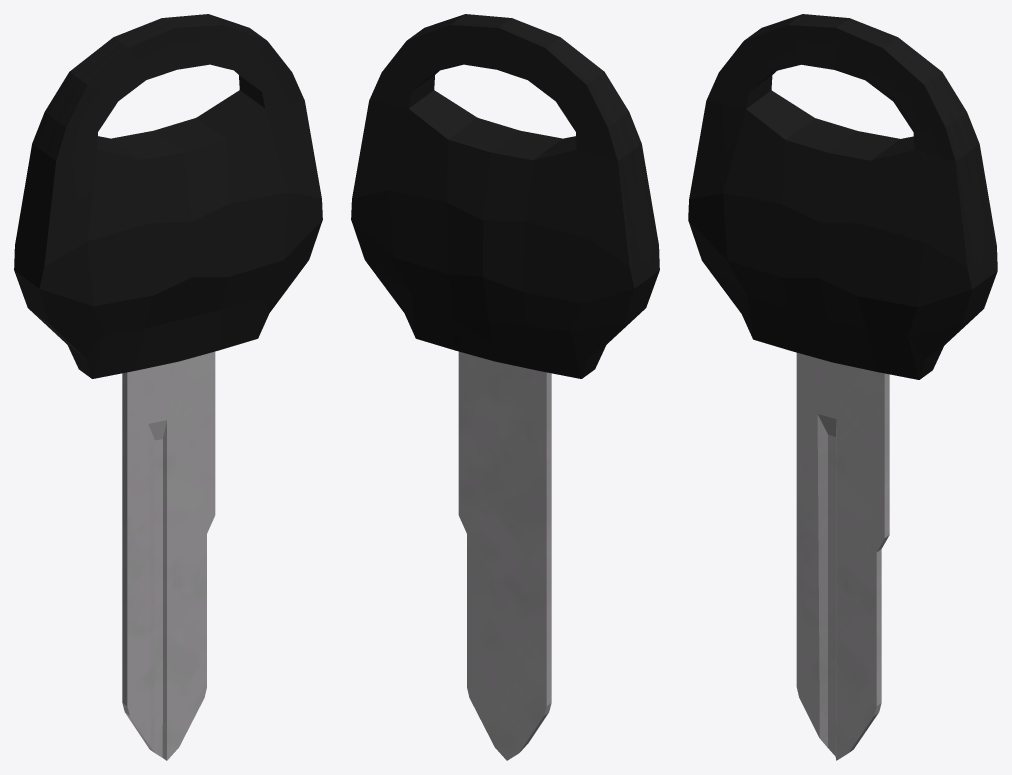
File: BikeKey.fbx
3 views of the same model, side by side, from view 1: azimuth 30°, elevation 25°; view 2: azimuth 150°, elevation 25°; view 3: azimuth 330°, elevation 25° (orthographic).
Parts seen in each view (by area): view 1: BikeKey; view 2: BikeKey; view 3: BikeKey.
Part boxes in pixels (<box>): BikeKey: <box>14,14,322,760</box>; BikeKey: <box>351,14,659,760</box>; BikeKey: <box>688,14,997,760</box>.
Bounding box in the file's own units: 0.4051 × 1 × 0.1141.
